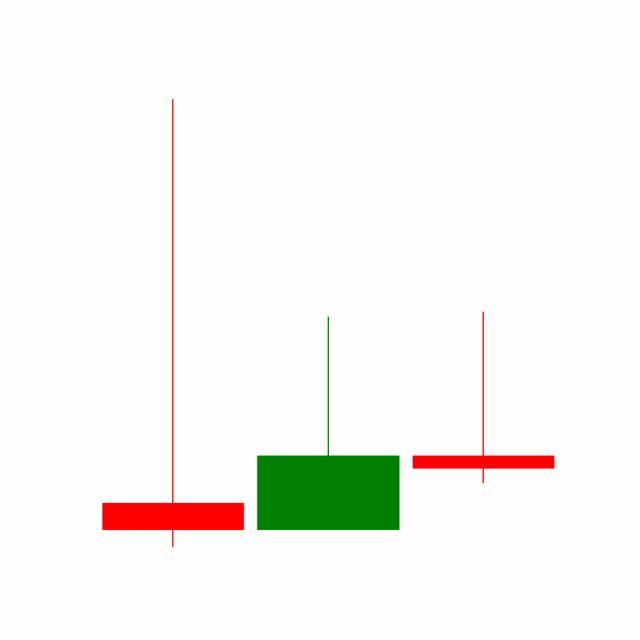Gravestone Doji: (406, 310, 562, 487)
